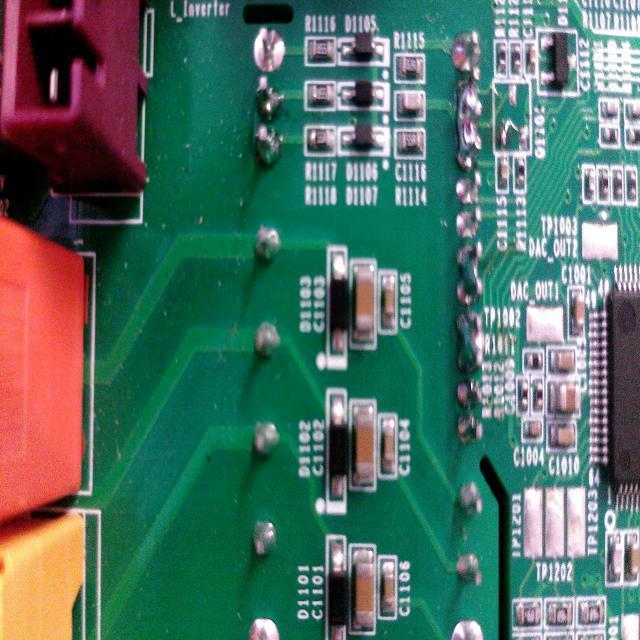Soldering shorted: (453, 65, 486, 169), (452, 310, 490, 379), (452, 241, 484, 304)
